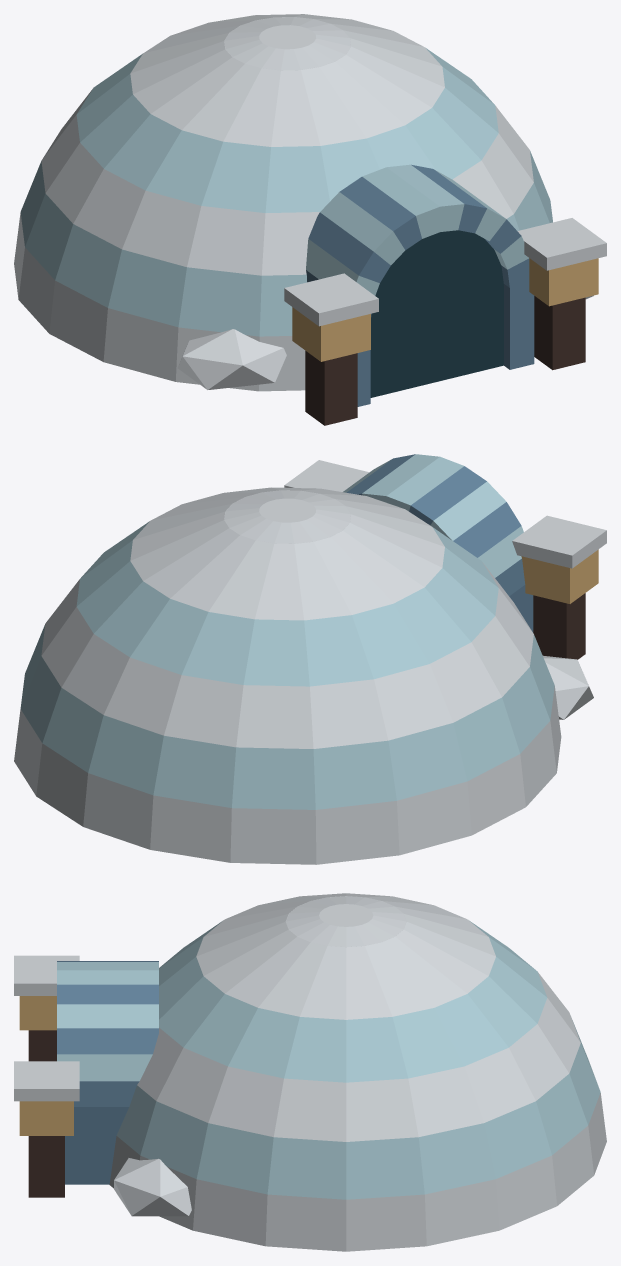
Rendered from Frosty_Igloo_Showcase.glb.
3 views of the same model, one above another, from view 1: azimuth 30°, elevation 25°; view 2: azimuth 150°, elevation 25°; view 3: azimuth 270°, elevation 25° (orthographic). The views are drawn at different scales.
Visible parts, largest first — view 1: Frosty_Igloo_Showcase; view 2: Frosty_Igloo_Showcase; view 3: Frosty_Igloo_Showcase.
Part boxes in pixels (<box>): Frosty_Igloo_Showcase: <box>14,14,606,425</box>; Frosty_Igloo_Showcase: <box>14,454,606,864</box>; Frosty_Igloo_Showcase: <box>14,893,606,1251</box>.
Size of the model in its own units: 2.3 by 1.1 by 2.62.
